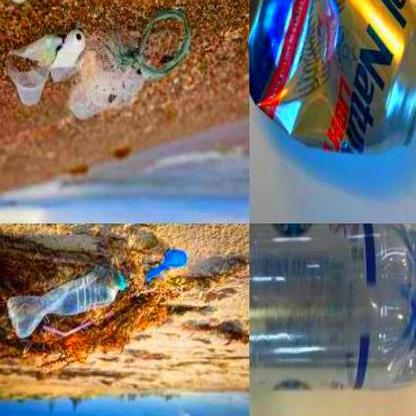can: (251, 2, 416, 154)
plastic bottle: (250, 226, 416, 389), (7, 269, 126, 340)
